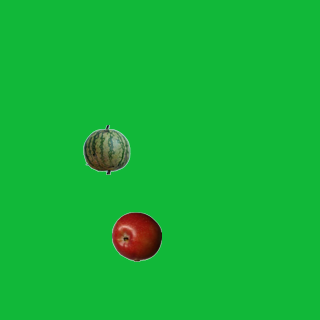Apple Braeburn: (111, 211, 161, 261)
Watermelon: (81, 124, 131, 174)
